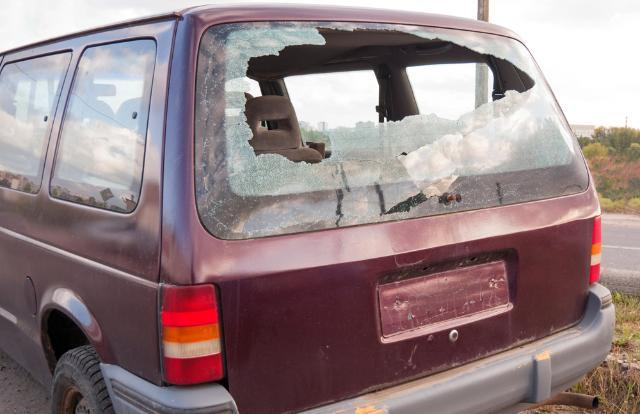glass shatter: (195, 21, 589, 240)
